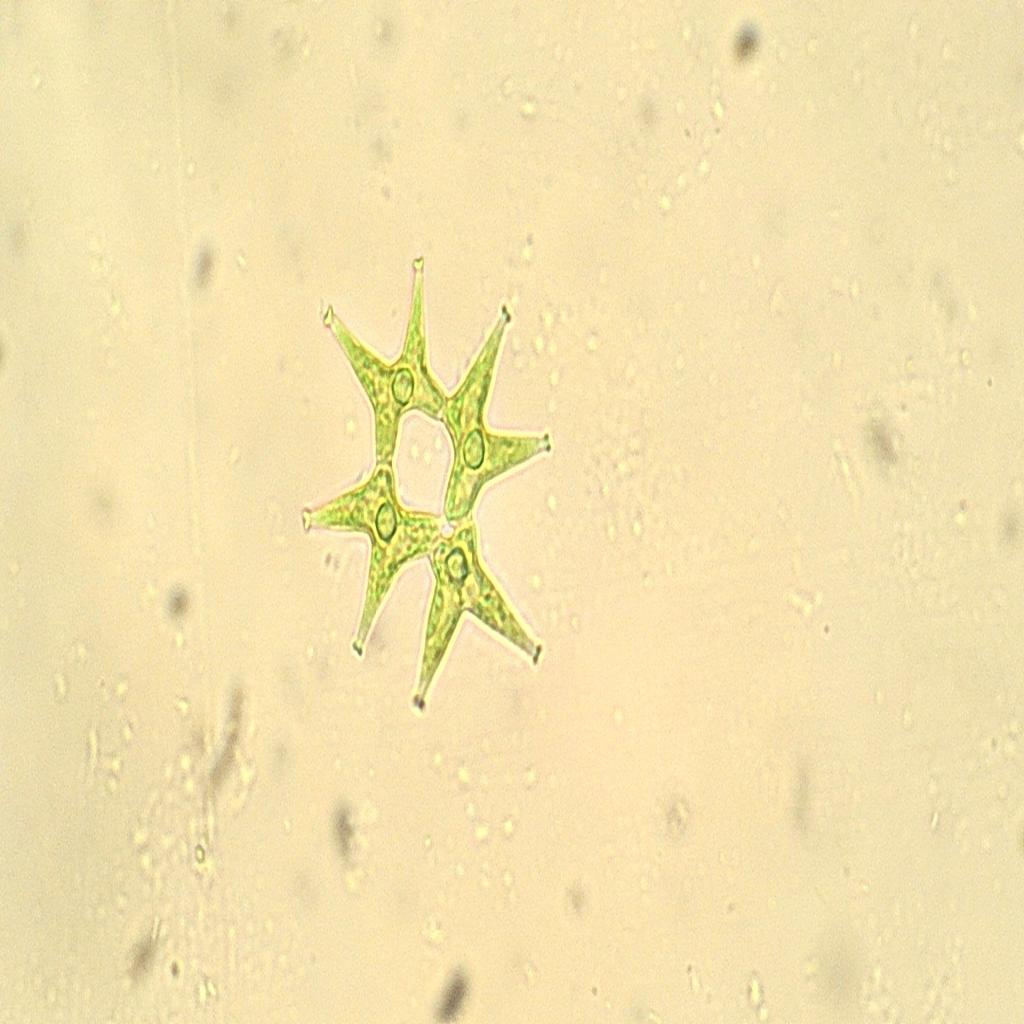Pediastrum_CT: (285, 226, 569, 722)
